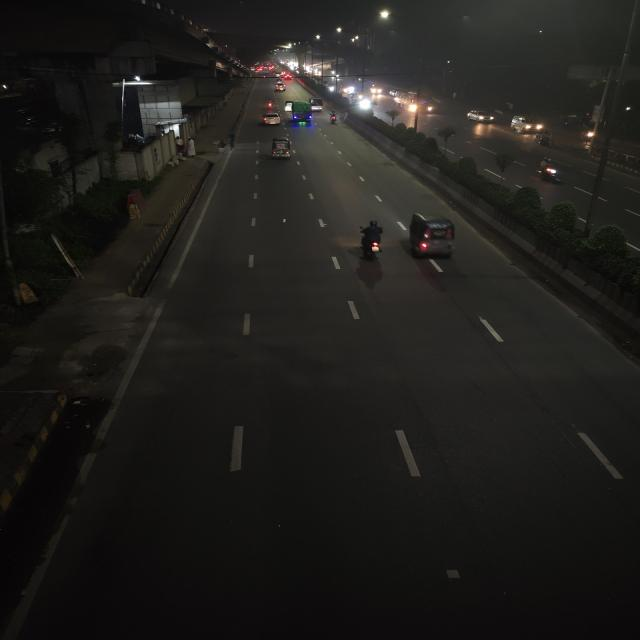bicycle: (227, 133, 238, 153)
bus: (395, 90, 435, 114)
car: (511, 114, 543, 134), (467, 108, 492, 125), (262, 112, 283, 126), (274, 81, 288, 93)
cng: (407, 208, 463, 270), (267, 138, 294, 160), (285, 101, 293, 113)
motorcycle: (355, 215, 391, 261), (537, 132, 550, 150), (329, 110, 340, 128), (266, 98, 276, 110)
truck: (290, 104, 315, 123)
